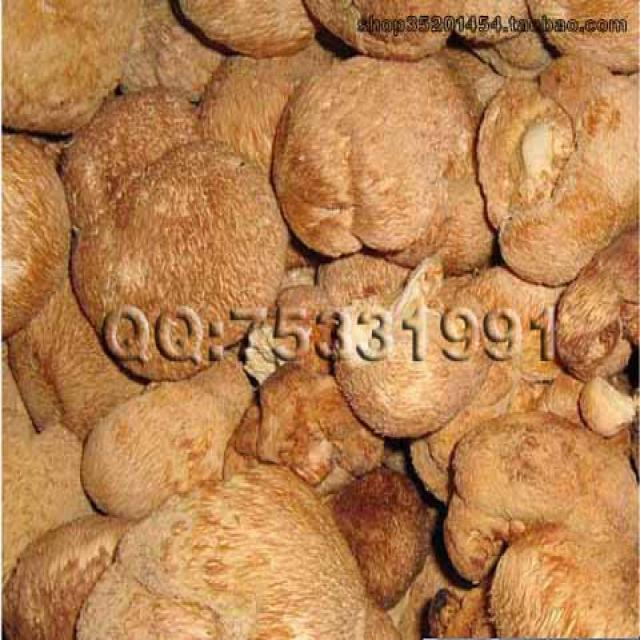Hericium erinaceus: (67, 93, 280, 377), (274, 52, 502, 271), (80, 475, 369, 640), (455, 414, 640, 639), (475, 57, 639, 286), (80, 351, 258, 512), (340, 261, 493, 438), (228, 346, 384, 496), (0, 0, 133, 126), (4, 521, 128, 640), (0, 134, 66, 336), (338, 469, 430, 609)
